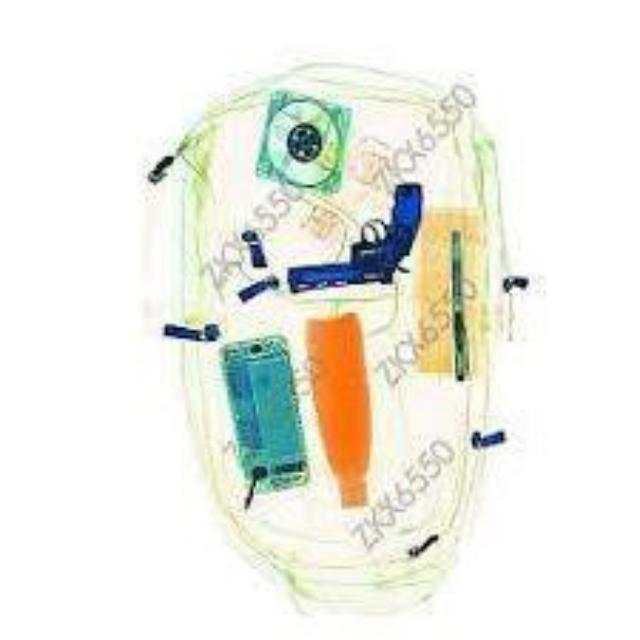Gun: (282, 176, 422, 292)
